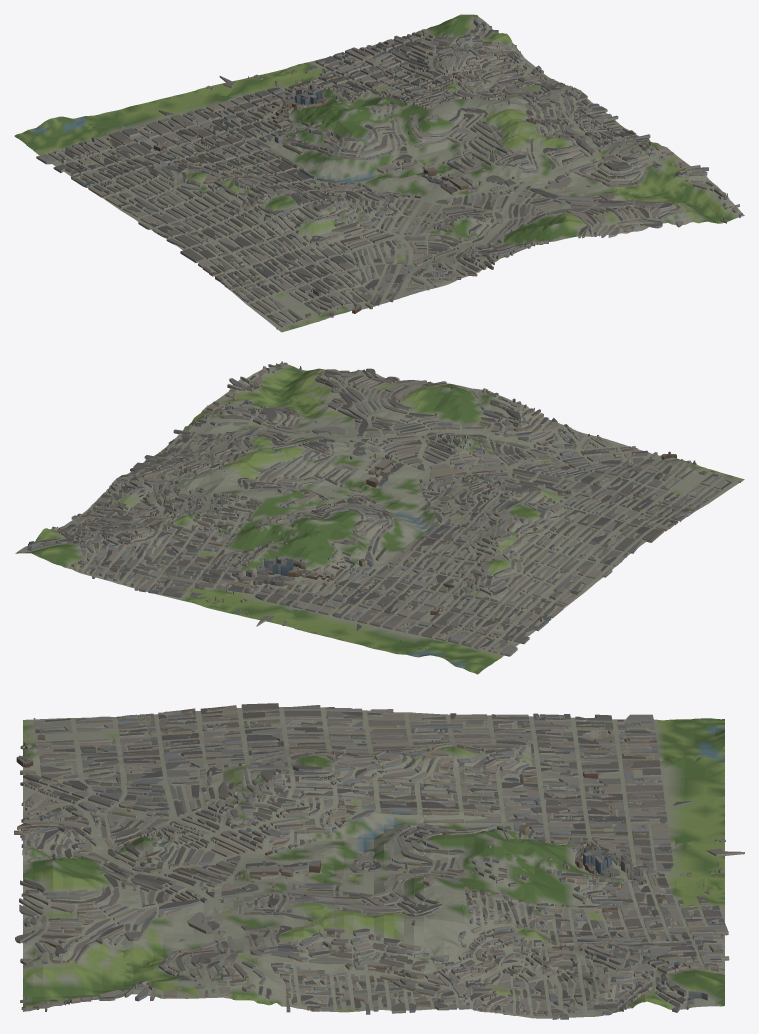
3 renders of one model, top to bottom at view 1: azimuth 30°, elevation 25°; view 2: azimuth 150°, elevation 25°; view 3: azimuth 270°, elevation 25°, orthographic. The views are drawn at different scales.
Visible parts, largest first — view 1: far; view 2: far; view 3: far.
Boxes of the visible parts, x1=… form: far: x1=14, y1=14, x2=744, y2=332; far: x1=15, y1=361, x2=744, y2=674; far: x1=14, y1=703, x2=744, y2=1019.
Bounding box in the file's own units: 3600 × 265 × 3643.
